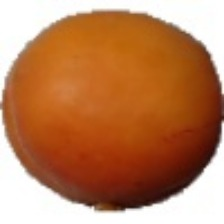apricot: (0, 0, 189, 188)
